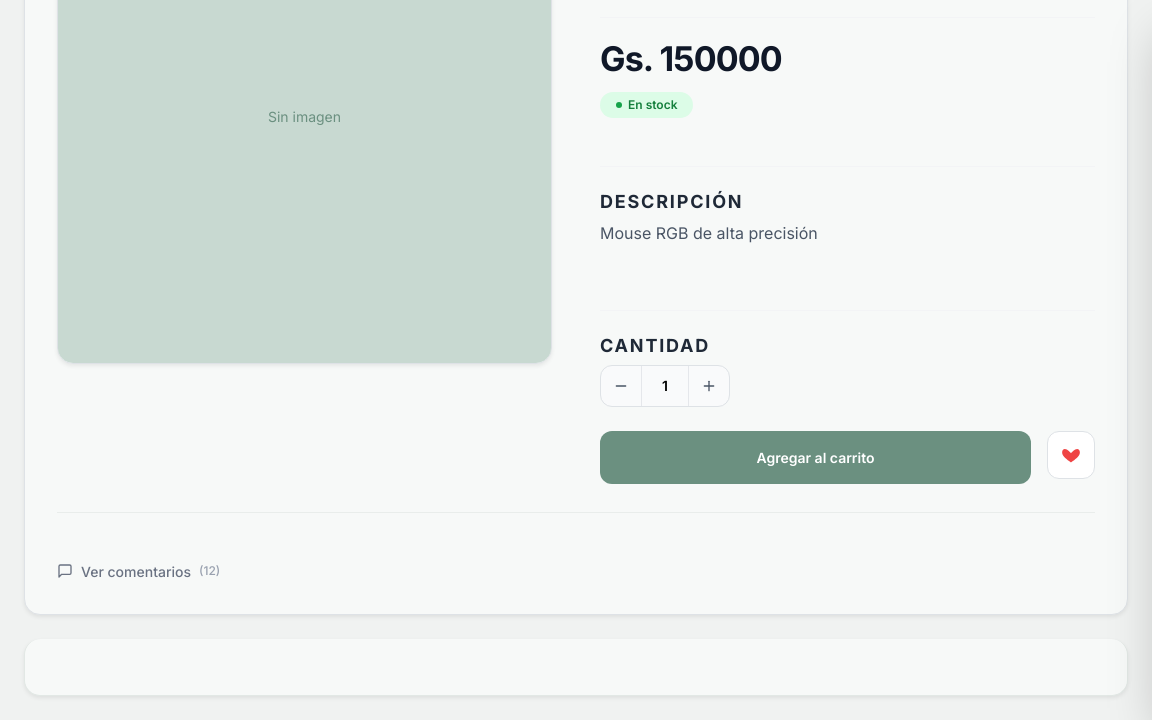
Test: DetalleProducto › cierra el modal de wishlist al hacer clic en Cancelar
The image size is (1152, 720).
(page scrolled)
Click the button named "agregar a favoritos".
click(1071, 455)  # box [1047,431,1095,479]
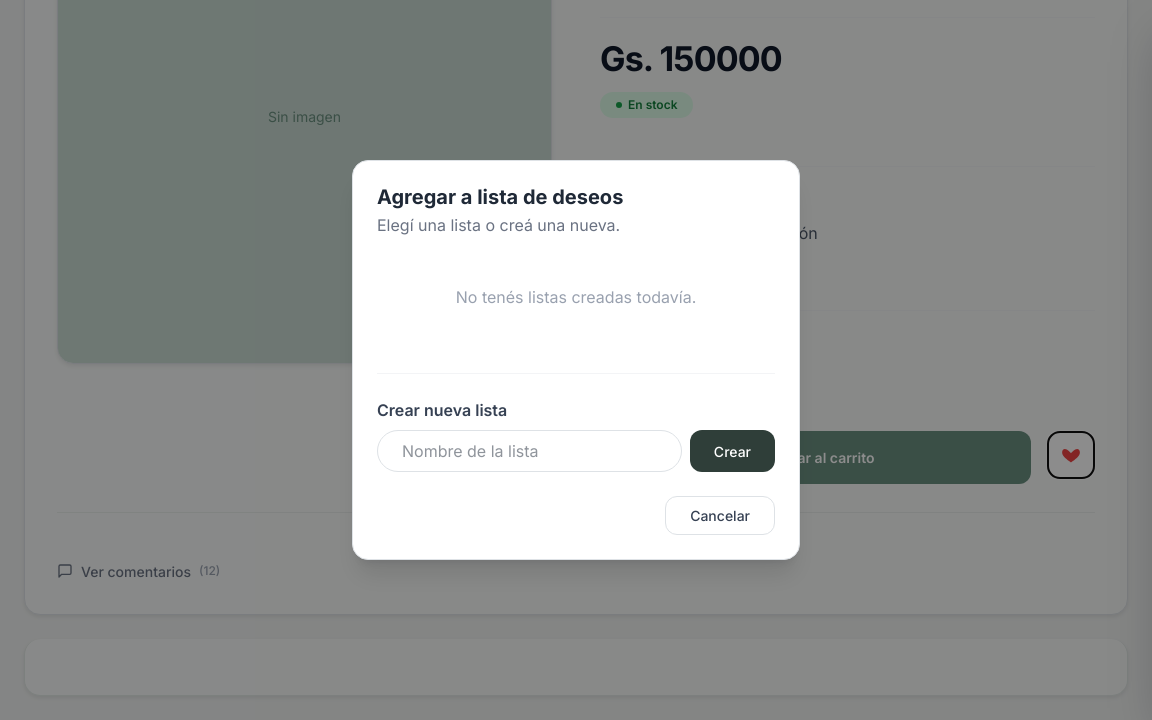
Expected: the text "No tenés listas creadas todavía." is shown, [456,287,696,307]
Click the button "Cancelar".
click(720, 516)  # box [665,496,775,535]
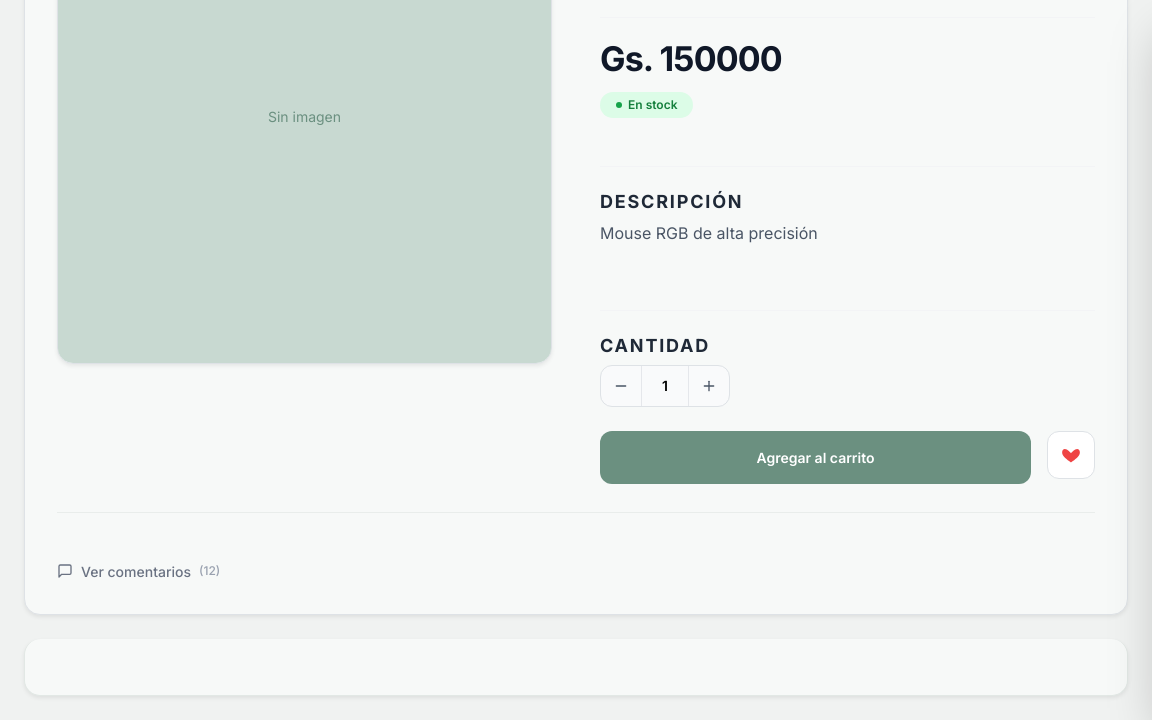
Expected: the heading "Agregar a lista de deseos" is gone
